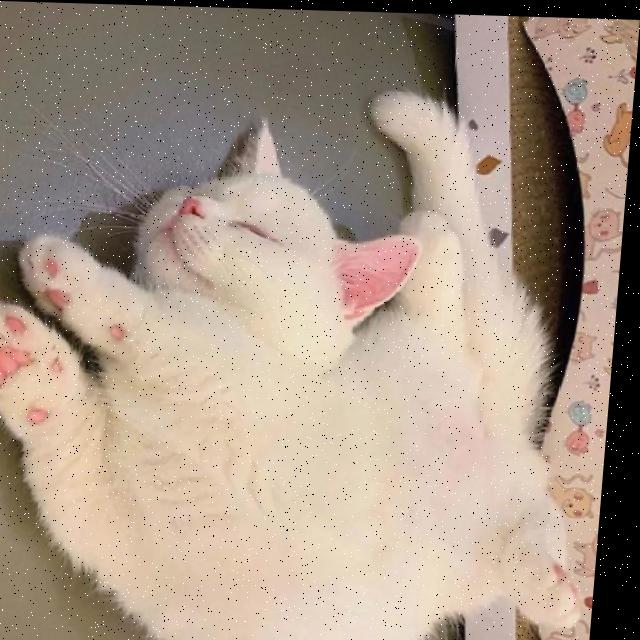Cats: (0, 52, 637, 640)
